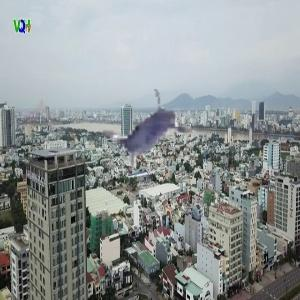drone: (79, 61, 226, 208)
